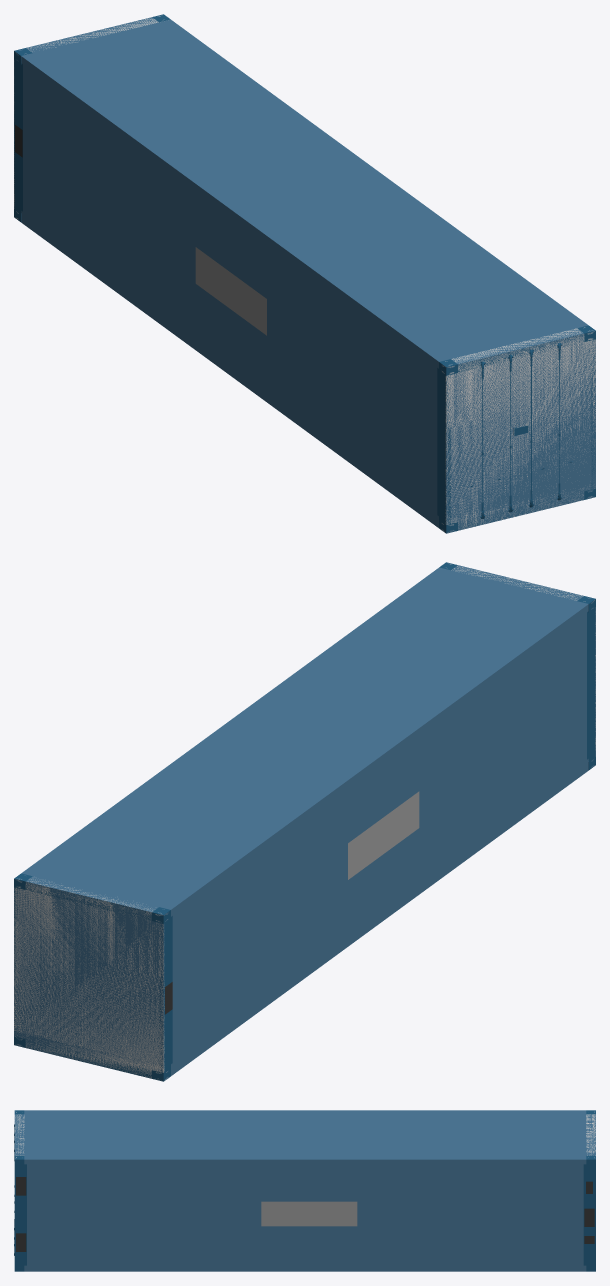
File: s_containers_40_oilex.dae
The picture shows the model from 3 angles, top to bottom: view 1: azimuth 30°, elevation 25°; view 2: azimuth 150°, elevation 25°; view 3: azimuth 270°, elevation 25°; orthographic projection. The views are drawn at different scales.
Parts seen in each view (by area): view 1: s_containers_40_oilex_a40, Colmesh_s_containers_40_oilex-1, s_containers_40_oilex_a1500, s_containers_40_oilex_a600, s_containers_40_oilex_a150; view 2: s_containers_40_oilex_a40, Colmesh_s_containers_40_oilex-1, s_containers_40_oilex_a1500, s_containers_40_oilex_a600, s_containers_40_oilex_a150; view 3: s_containers_40_oilex_a40, s_containers_40_oilex_a1500, Colmesh_s_containers_40_oilex-1, s_containers_40_oilex_a600, s_containers_40_oilex_a150.
Part boxes in pixels (x1,y1,x2,y2): s_containers_40_oilex_a40: (14, 15, 595, 533); Colmesh_s_containers_40_oilex-1: (14, 16, 595, 532); s_containers_40_oilex_a1500: (14, 14, 595, 533); s_containers_40_oilex_a600: (14, 16, 595, 532); s_containers_40_oilex_a150: (446, 332, 595, 531); s_containers_40_oilex_a40: (14, 563, 595, 1079); Colmesh_s_containers_40_oilex-1: (14, 564, 595, 1080); s_containers_40_oilex_a1500: (14, 562, 595, 1081); s_containers_40_oilex_a600: (14, 564, 595, 1080); s_containers_40_oilex_a150: (14, 880, 163, 1081); s_containers_40_oilex_a40: (14, 1110, 595, 1271); s_containers_40_oilex_a1500: (14, 1110, 595, 1271); Colmesh_s_containers_40_oilex-1: (15, 1112, 595, 1157); s_containers_40_oilex_a600: (14, 1111, 595, 1271); s_containers_40_oilex_a150: (14, 1159, 595, 1271).
Bounding box in the file's own units: 2.48 × 12.21 × 2.59.
